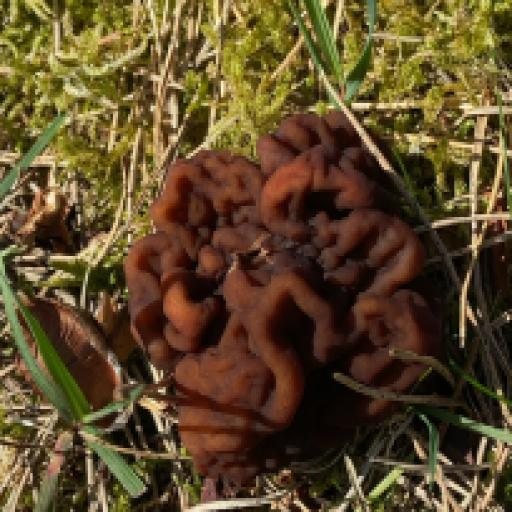mushroom: (89, 88, 471, 484)
